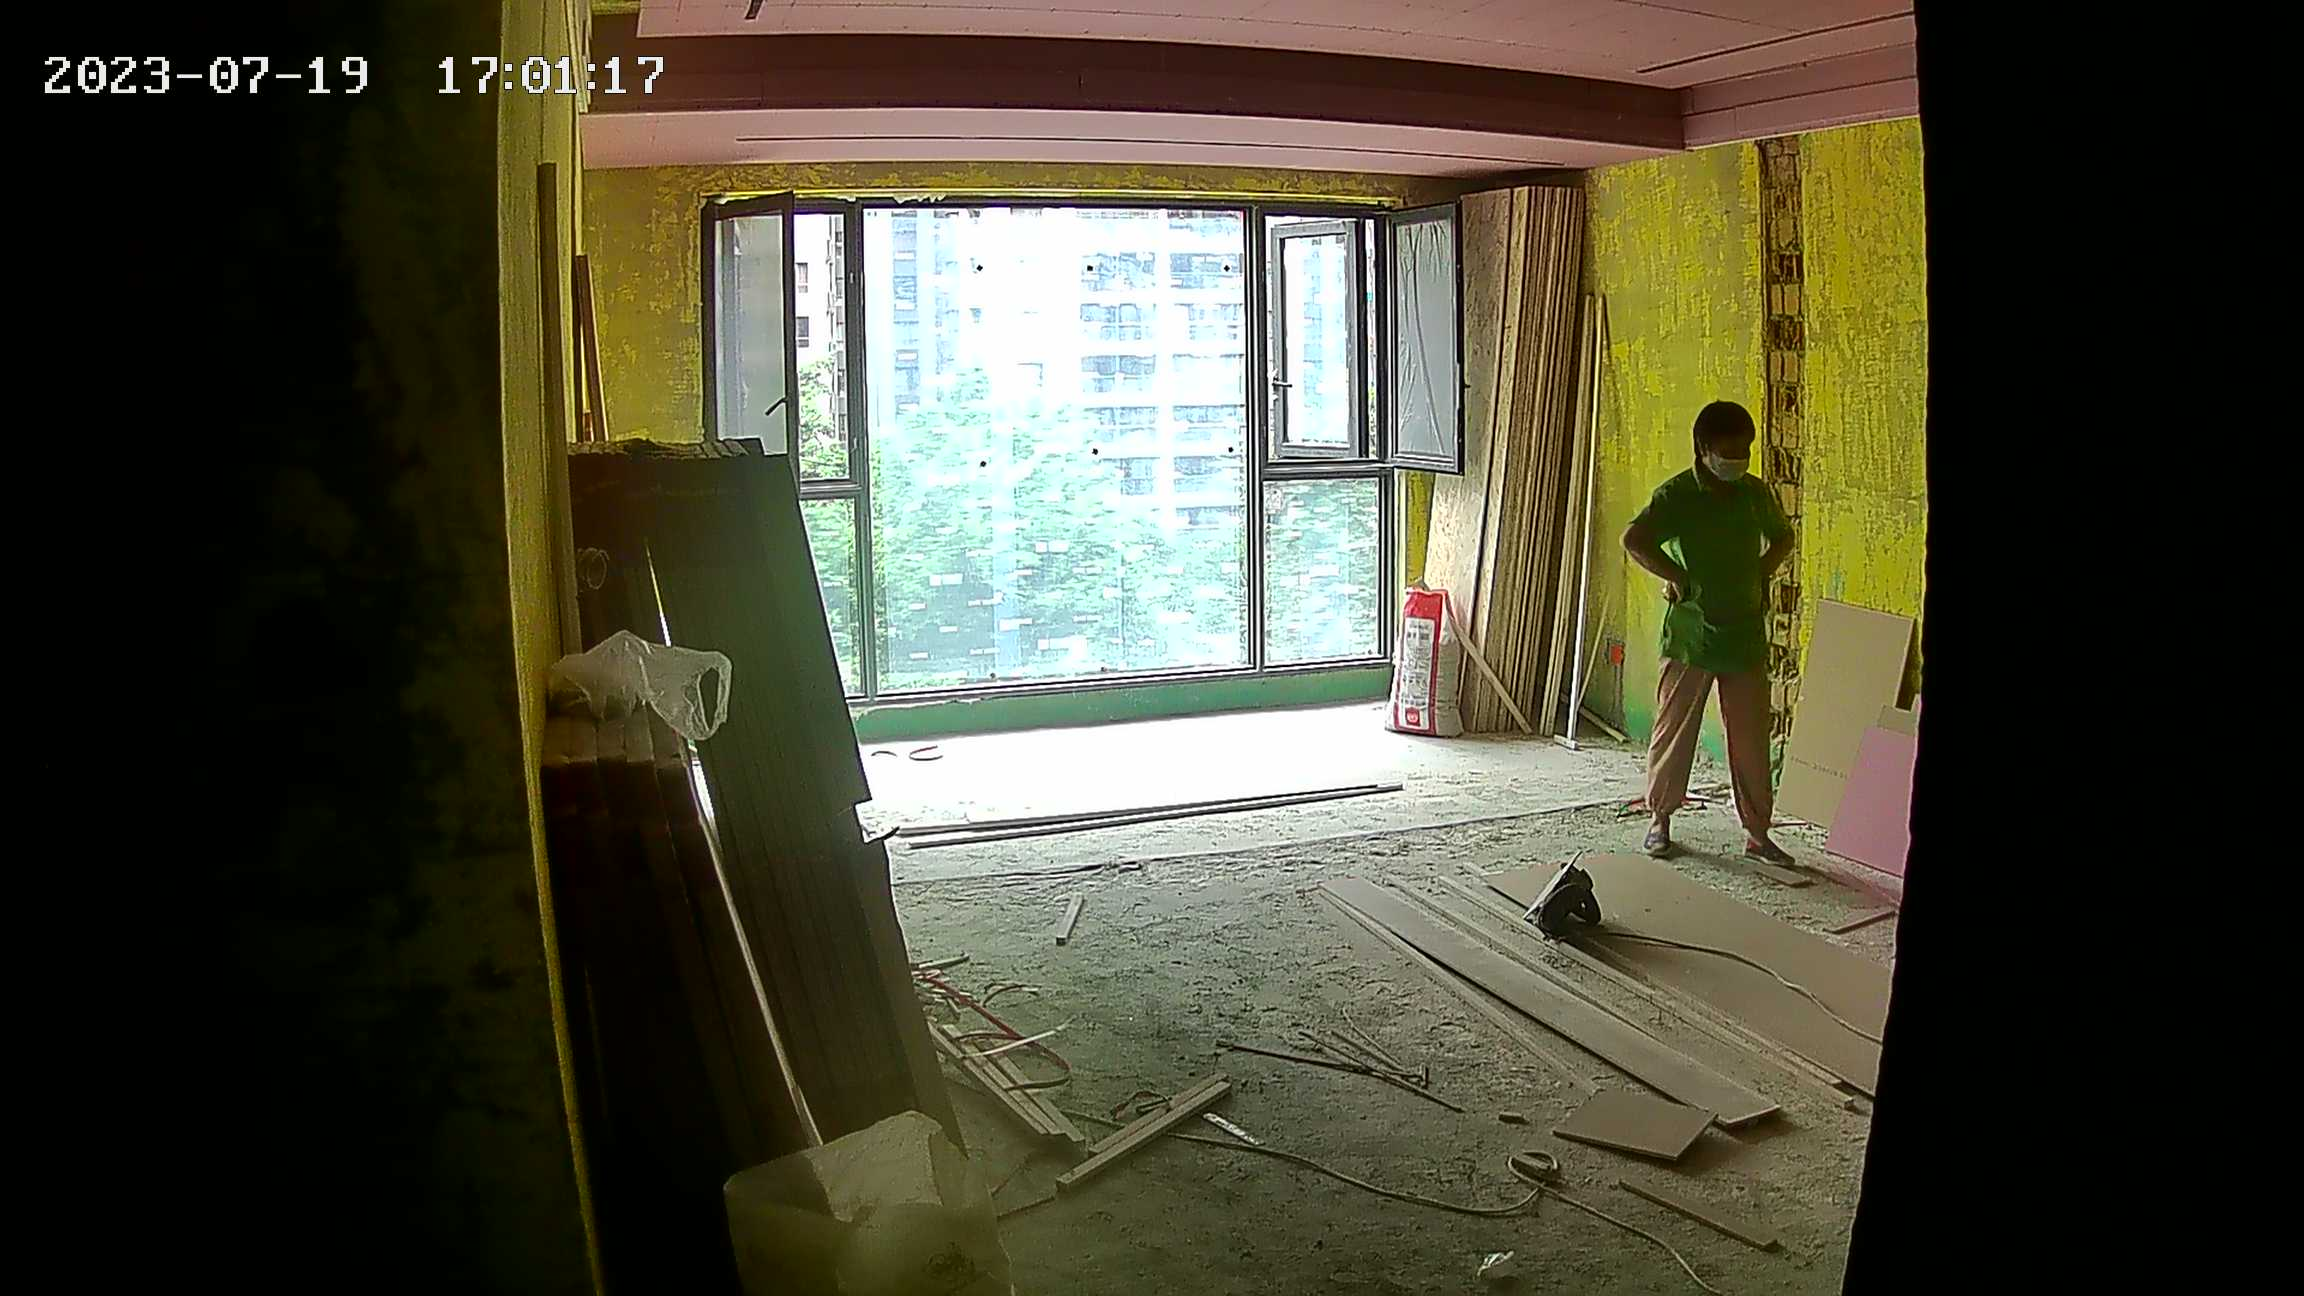people: (1625, 392, 1804, 867)
window: (704, 209, 1437, 672)
